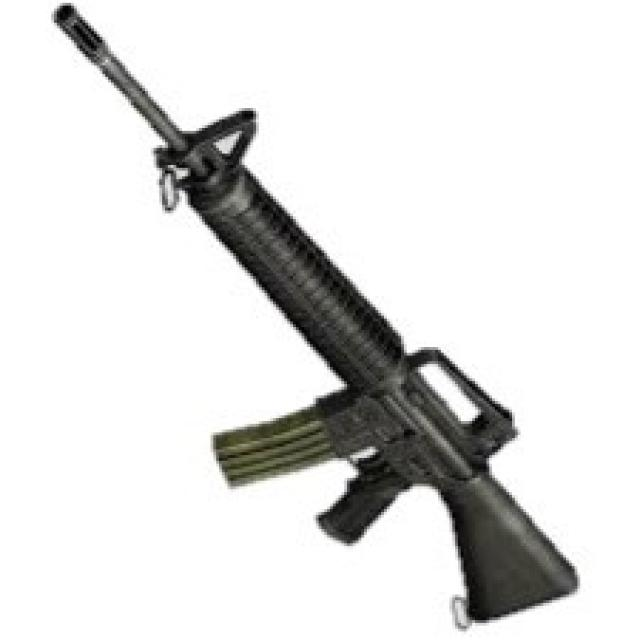rifle: (58, 1, 591, 638)
